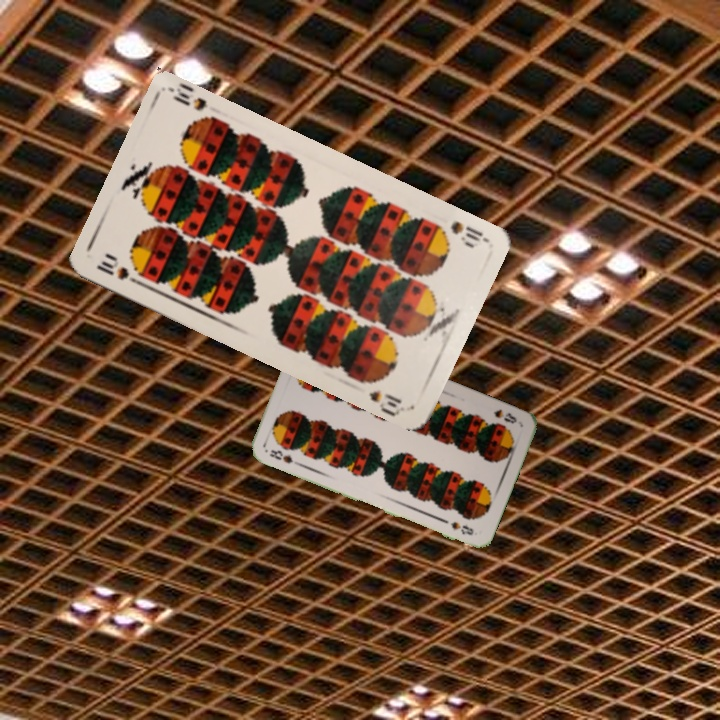S10: (92, 251, 147, 289), (446, 217, 488, 249)
S8: (266, 446, 302, 468), (490, 405, 519, 426)
